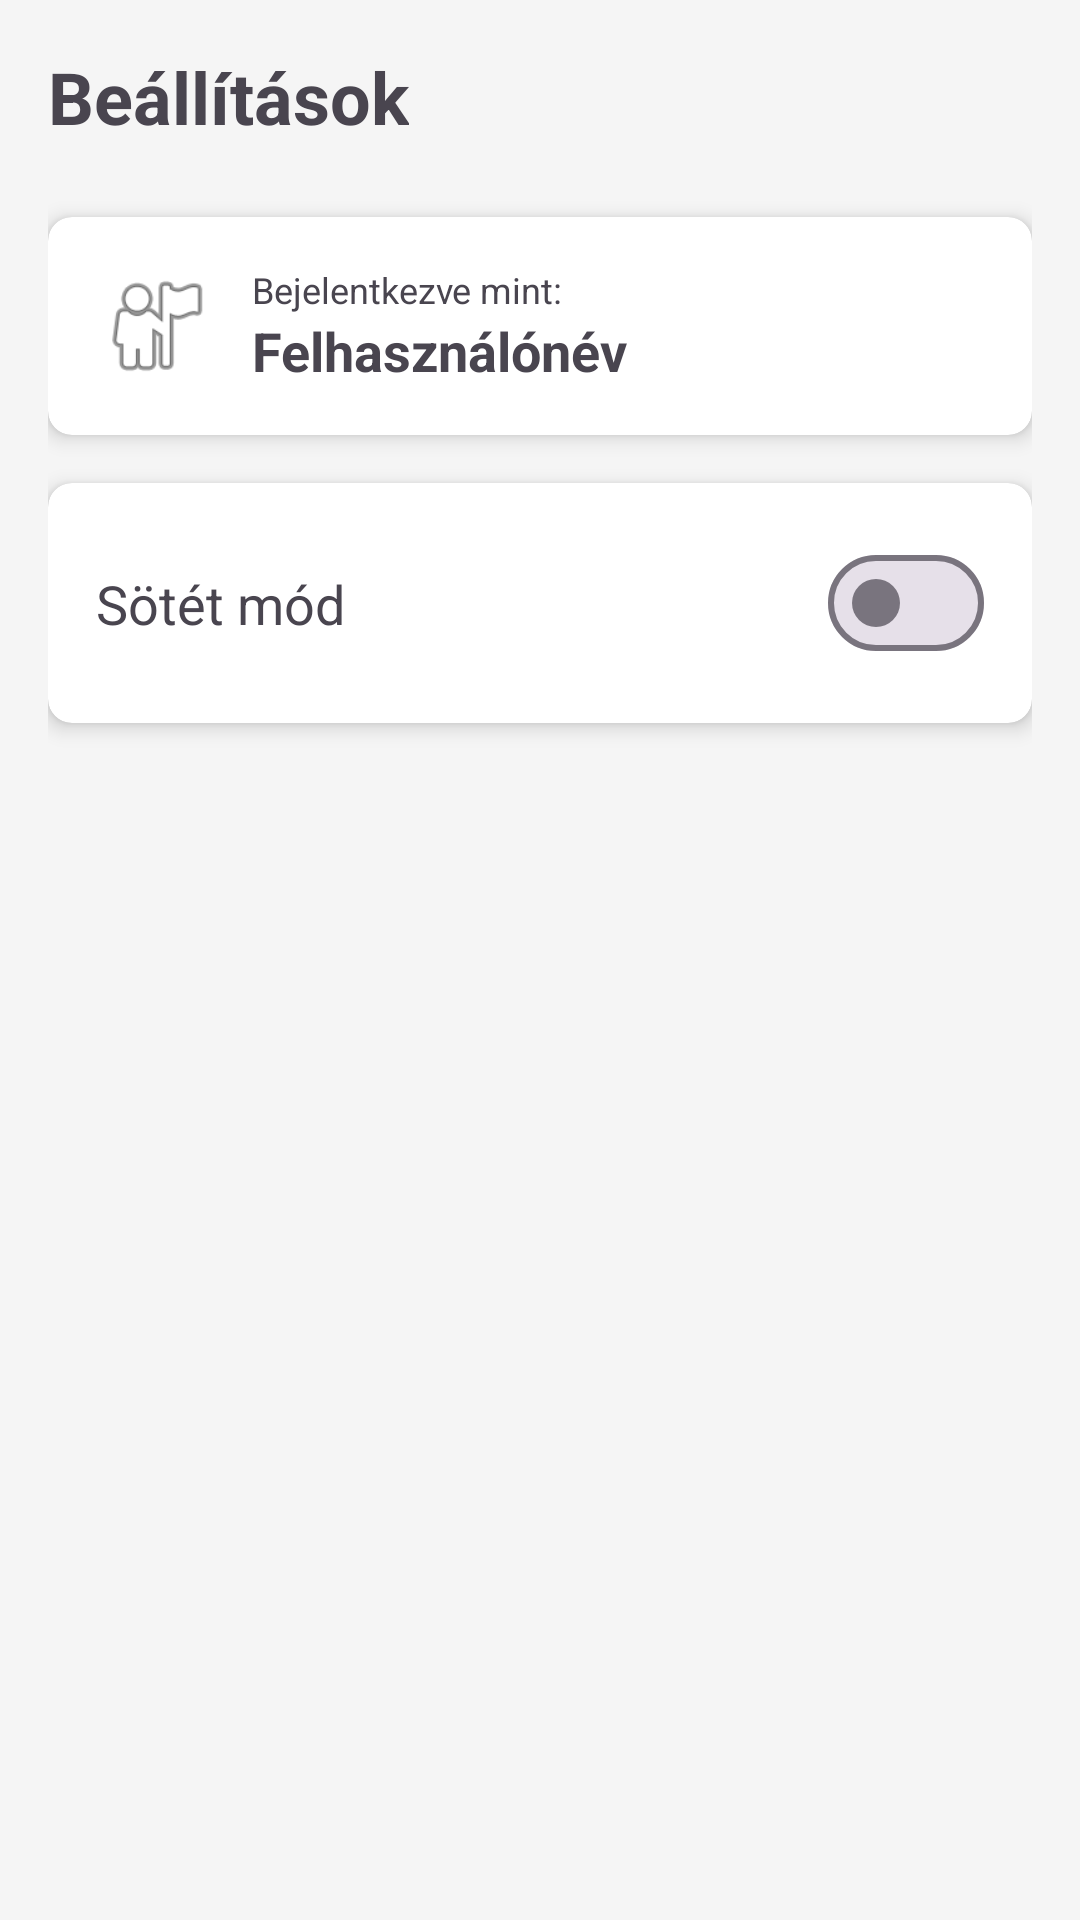

Icons on this 1080×1920 Android screen, each with its box as {"x1": x1, "y1": y1, "x2": x2, "y2": y2}:
myplaces: {"x1": 112, "y1": 281, "x2": 202, "y2": 371}
